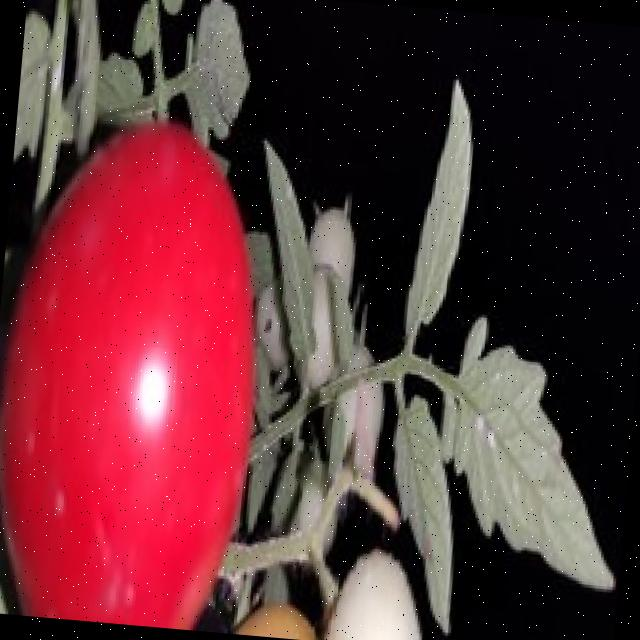tomato: (0, 124, 251, 629)
